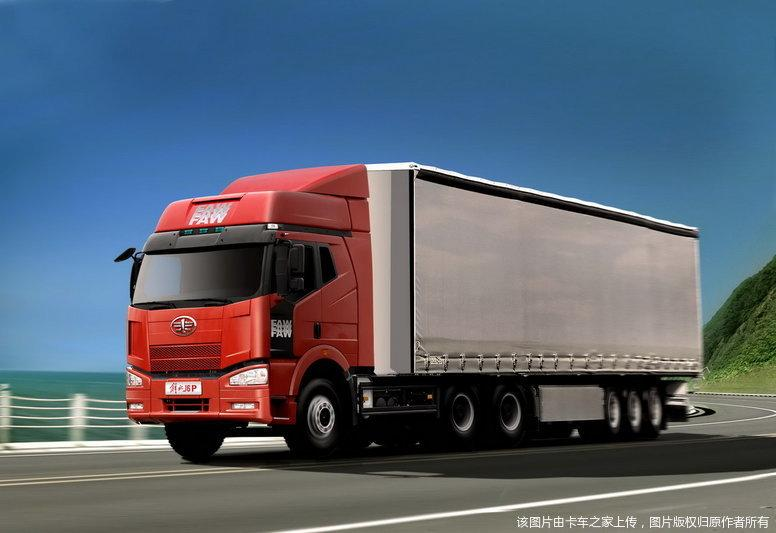truck: (118, 151, 715, 467)
